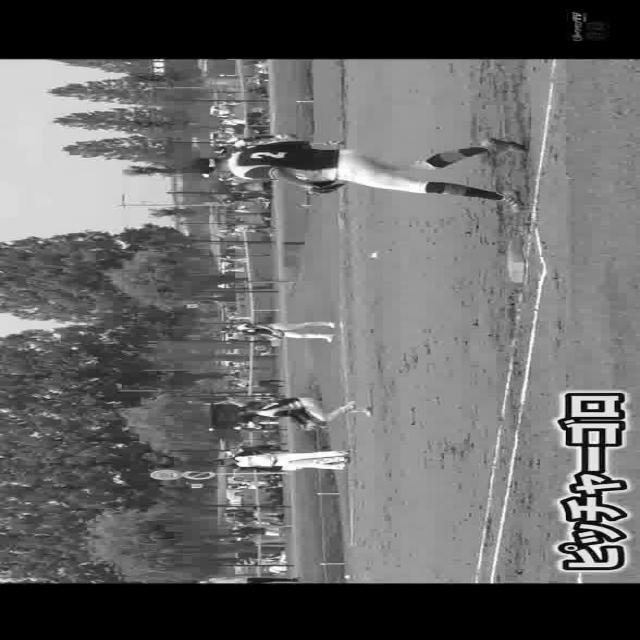base: (508, 233, 526, 283)
baseball: (344, 572, 352, 578)
baseball_glove: (301, 177, 347, 196), (294, 418, 328, 432)
shoe: (476, 134, 530, 152), (492, 188, 522, 212), (362, 404, 380, 416), (342, 398, 358, 411)
